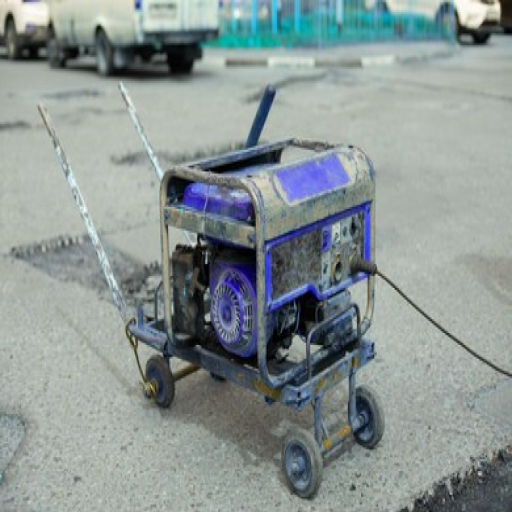portable_generator: (158, 137, 378, 390)
